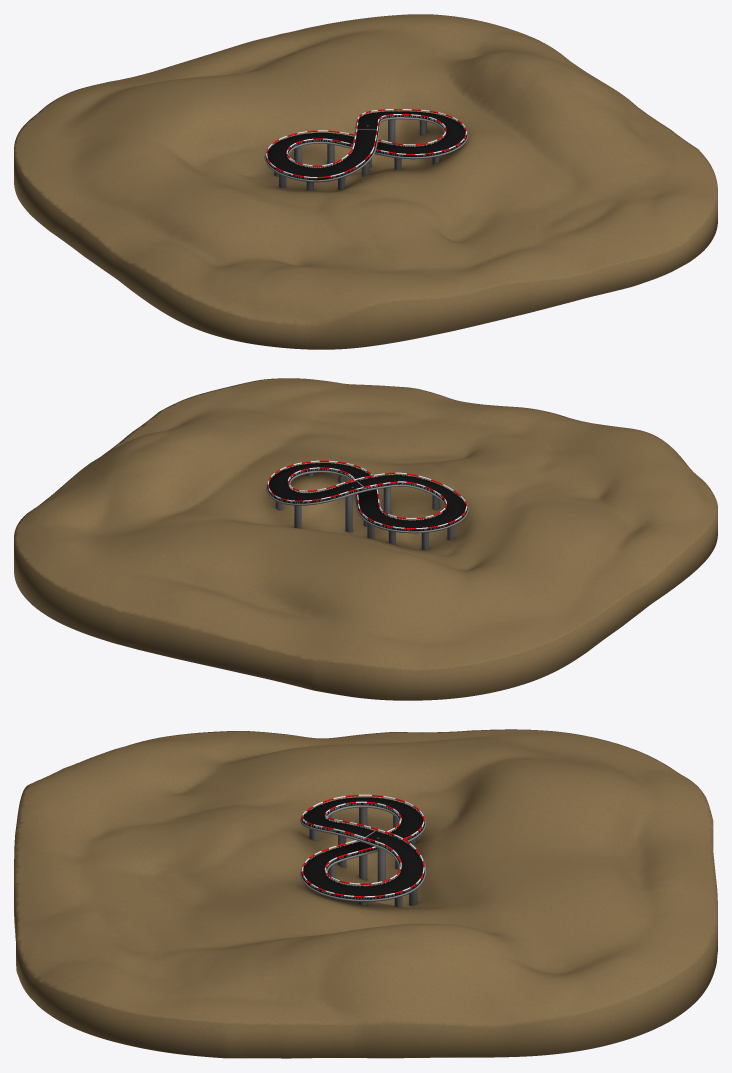
Rendered from mini_race_track_figure_8.glb.
3 views of the same model, one above another, from view 1: azimuth 30°, elevation 25°; view 2: azimuth 150°, elevation 25°; view 3: azimuth 270°, elevation 25° (orthographic). The views are drawn at different scales.
Parts seen in each view (by area): view 1: ground, asphalt, pillars, concrete, railing_white, railing_red, railing_metal; view 2: ground, asphalt, pillars, concrete, railing_white, railing_red, railing_metal; view 3: ground, asphalt, pillars, concrete, railing_white, railing_red, railing_metal.
Boxes of the visible parts, box(x1,y1,x2,y2) form: ground: box(14, 14, 717, 349); asphalt: box(265, 111, 467, 180); pillars: box(274, 119, 439, 190); concrete: box(264, 111, 468, 182); railing_white: box(266, 109, 466, 178); railing_red: box(266, 109, 466, 178); railing_metal: box(267, 110, 465, 178); ground: box(14, 378, 717, 700); asphalt: box(267, 463, 467, 531); pillars: box(275, 473, 454, 549); concrete: box(266, 470, 468, 533); railing_white: box(267, 460, 467, 529); railing_red: box(267, 460, 467, 529); railing_metal: box(270, 462, 465, 530); ground: box(14, 729, 717, 1058); asphalt: box(301, 797, 424, 899); pillars: box(309, 807, 417, 907); concrete: box(300, 805, 426, 901); railing_white: box(301, 794, 424, 897); railing_red: box(301, 794, 424, 897); railing_metal: box(302, 796, 423, 898).
Size of the model in its own units: 170 by 22.12 by 171.
Materials: 8 (5 with a texture image).
